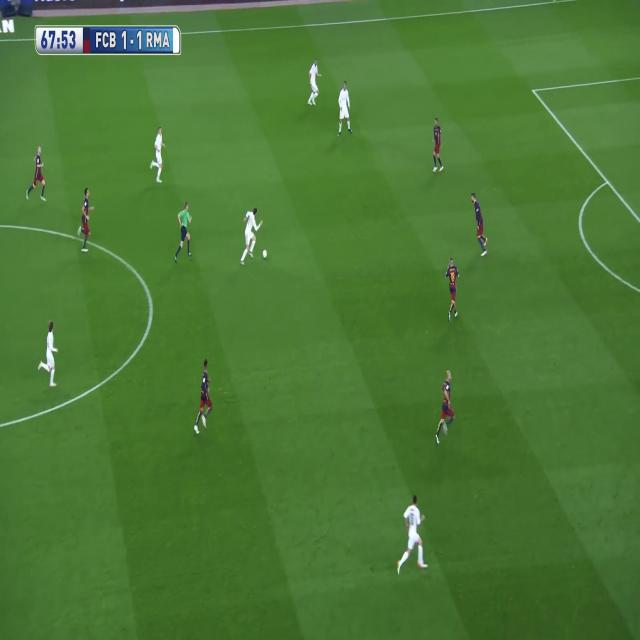Ball: (262, 250, 268, 258)
TEAM 1: (434, 369, 456, 446), (197, 349, 213, 436), (29, 145, 47, 203), (76, 188, 92, 252), (446, 257, 460, 320), (430, 117, 443, 173)
TEAM 2: (396, 496, 428, 576), (469, 186, 488, 262), (40, 320, 61, 388), (240, 208, 264, 266), (150, 126, 166, 187), (337, 81, 352, 140), (308, 59, 322, 106)
